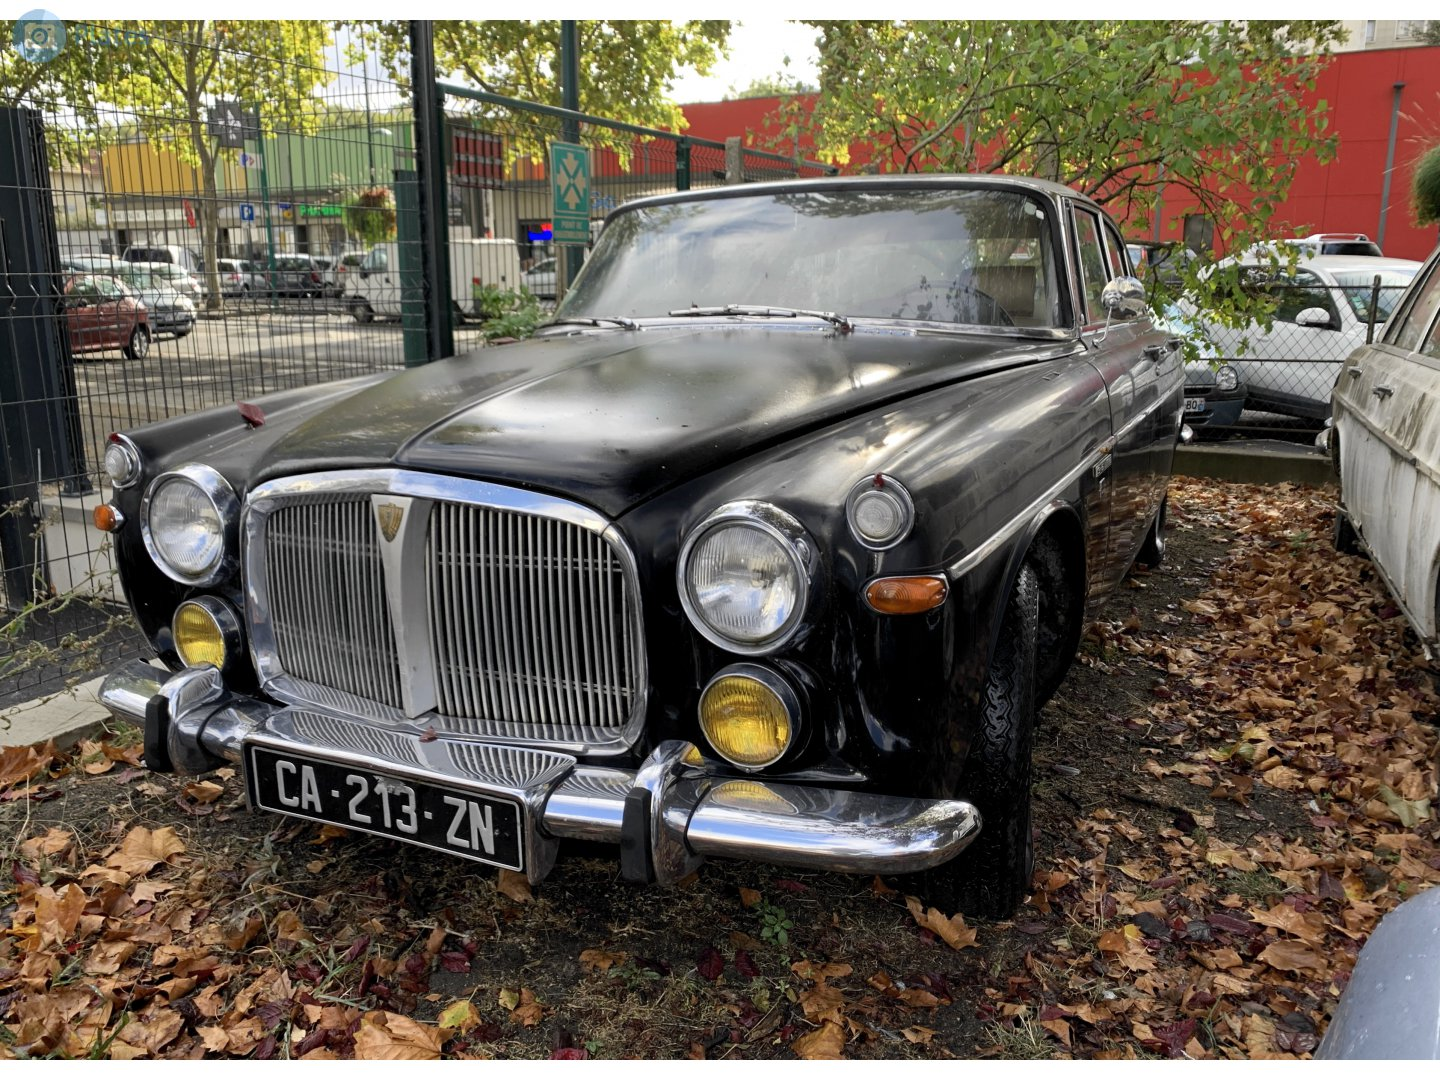licence plate: (237, 730, 532, 874)
